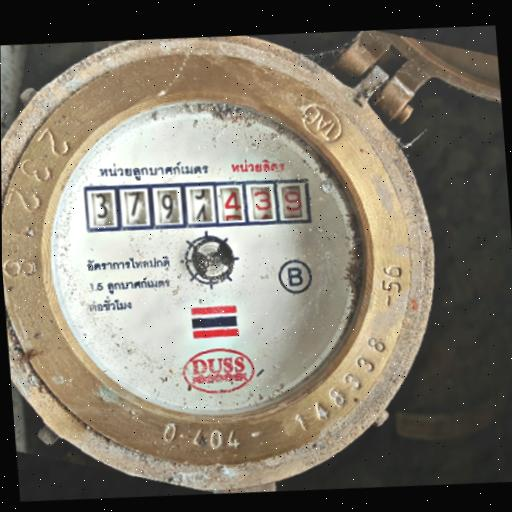3: (251, 185, 272, 221), (191, 189, 212, 223), (92, 193, 113, 226)
4: (221, 188, 242, 223)
7: (124, 192, 147, 225)
9: (158, 190, 179, 224), (281, 186, 303, 218)
border_water_meter_number: (84, 170, 313, 239)
